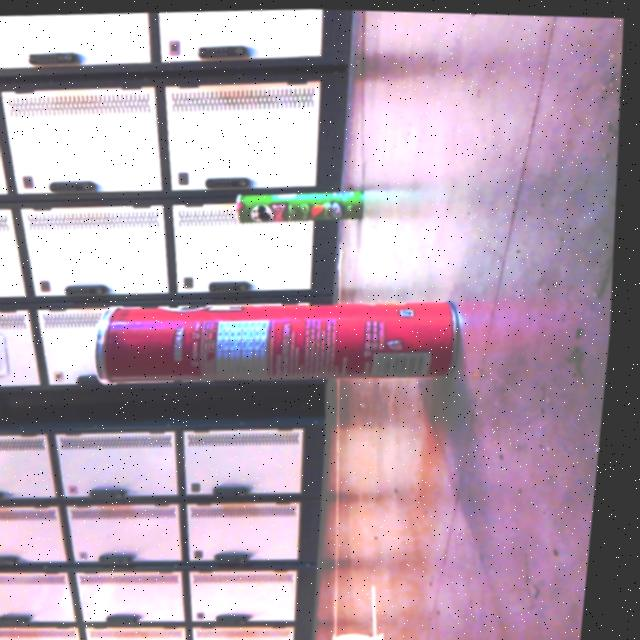greenpringles: (221, 179, 371, 235)
redpringles: (79, 279, 483, 422)
